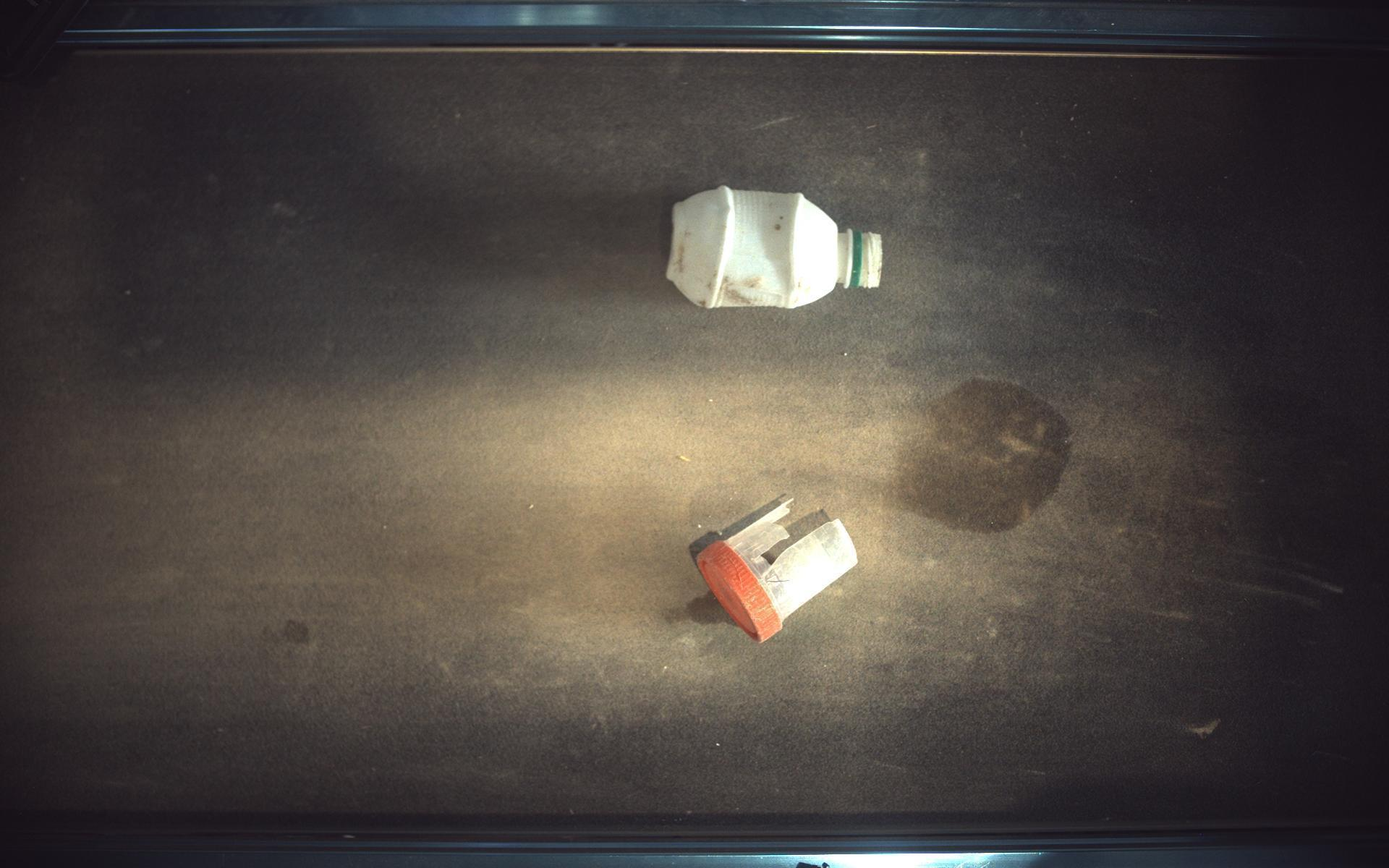general_w: (667, 184, 884, 308), (690, 494, 859, 643)
